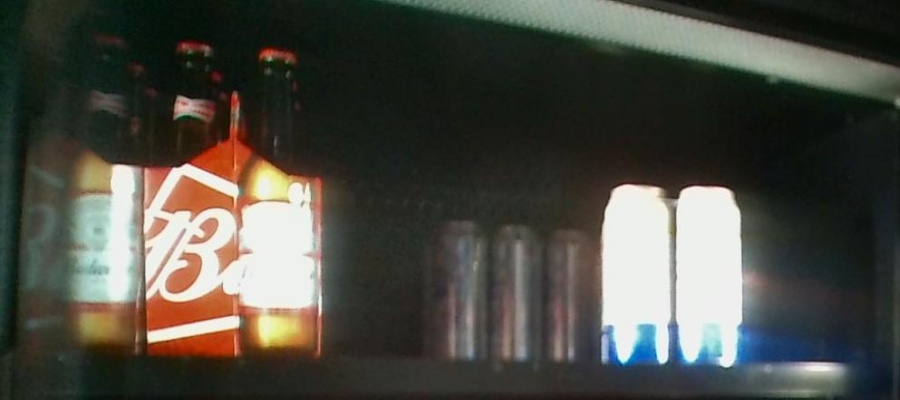bottle: (146, 36, 323, 353), (17, 33, 140, 351), (598, 181, 748, 367), (430, 217, 592, 360)
